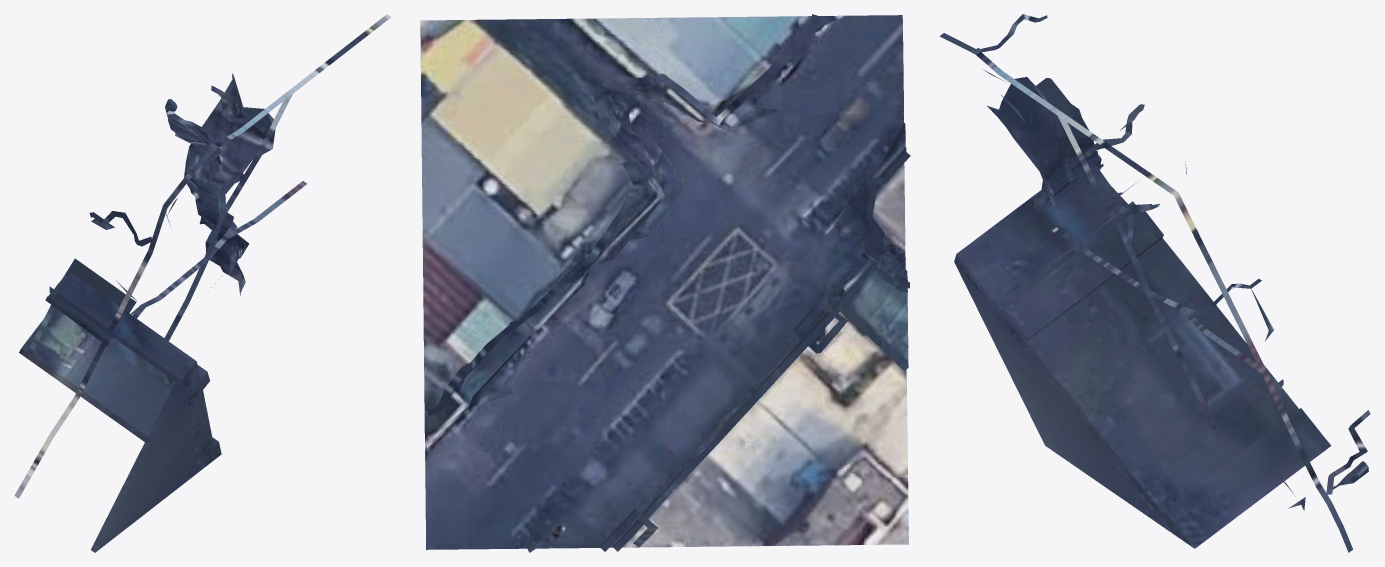
3 renders of one model, left to right at view 1: azimuth 30°, elevation 25°; view 2: azimuth 150°, elevation 25°; view 3: azimuth 270°, elevation 25°, orthographic. The views are drawn at different scales.
Size of the model in its own units: 38.55 by 40.63 by 33.54.
Materials: 2 (2 with a texture image).
